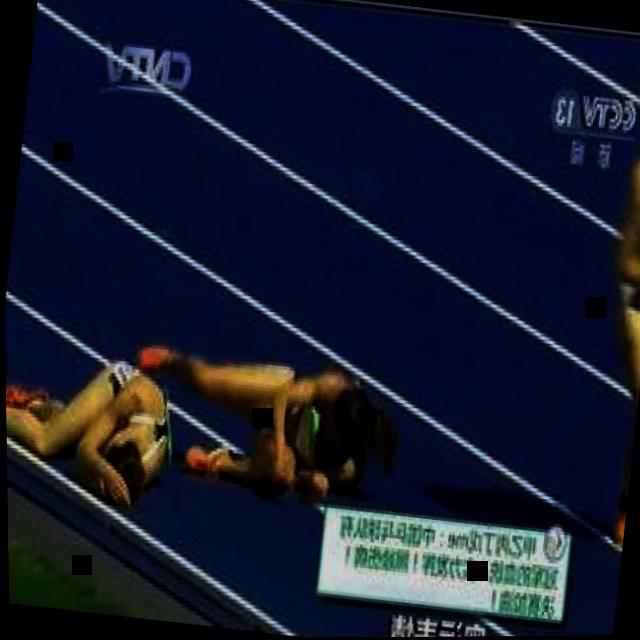Fall-Detected: (4, 312, 201, 537)
